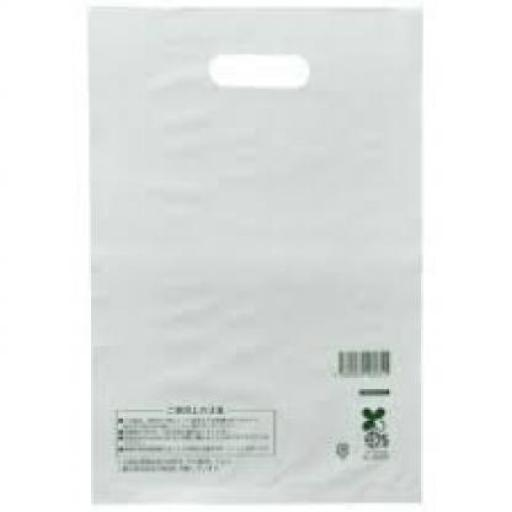plastic: (82, 2, 421, 503)
